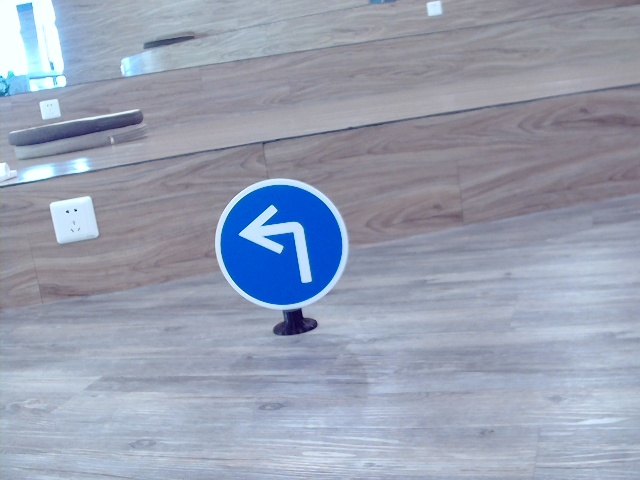turn_left: (236, 204, 318, 285)
